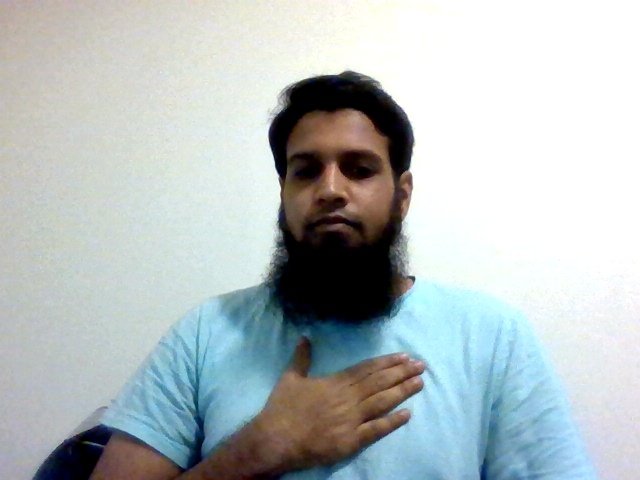please: (259, 329, 425, 472)
